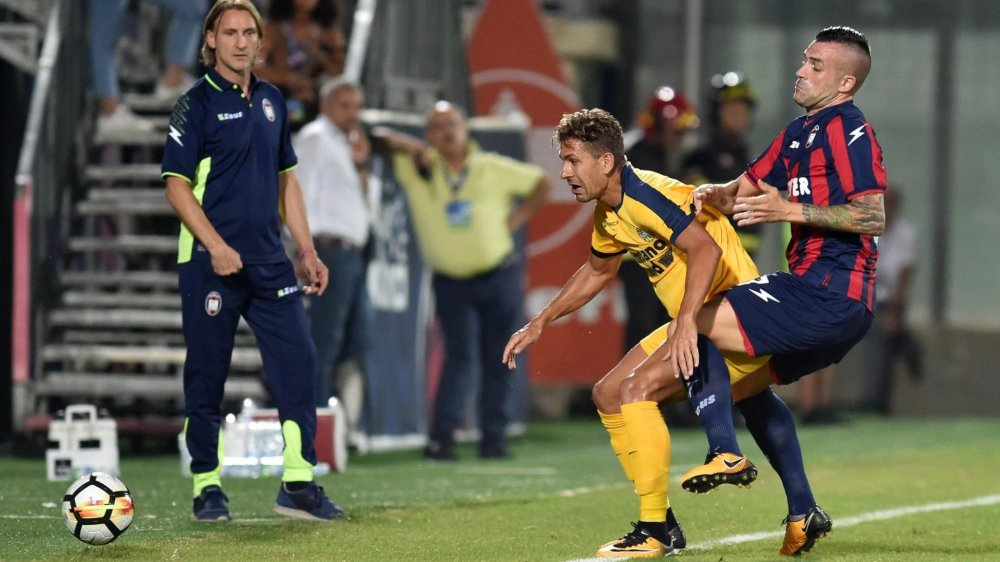ball: (61, 469, 137, 548)
